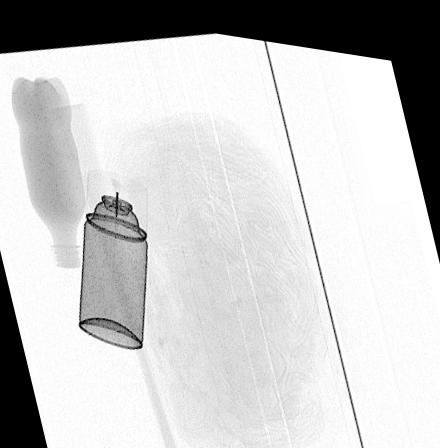Sprayer: (77, 164, 148, 345)
